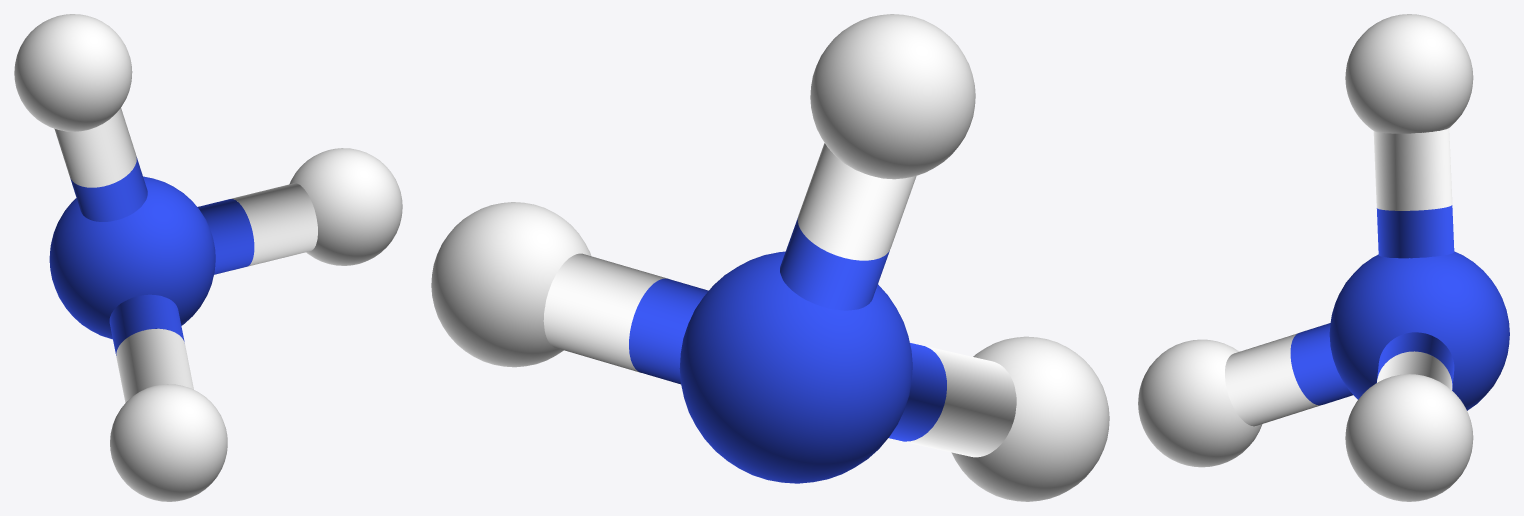
File: ammonia.obj
3 renders of one model, left to right at view 1: azimuth 30°, elevation 25°; view 2: azimuth 150°, elevation 25°; view 3: azimuth 270°, elevation 25°, orthographic. The views are drawn at different scales.
Parts seen in each view (by area): view 1: N1_Atom, H3_Atom, H4_Atom, H2_Atom, Cylinder6, Cylinder4, Cylinder2, Cylinder5, Cylinder3, Cylinder1; view 2: N1_Atom, H3_Atom, H2_Atom, H4_Atom, Cylinder6, Cylinder4, Cylinder2, Cylinder3, Cylinder5, Cylinder1; view 3: N1_Atom, H2_Atom, H3_Atom, H4_Atom, Cylinder4, Cylinder2, Cylinder3, Cylinder1, Cylinder5, Cylinder6.
Boxes of the visible parts, left/top/right/bottom form: N1_Atom: left=49, top=176, right=215, bottom=339; H3_Atom: left=14, top=14, right=132, bottom=131; H4_Atom: left=110, top=384, right=227, bottom=501; H2_Atom: left=289, top=148, right=402, bottom=265; Cylinder6: left=231, top=183, right=317, bottom=266; Cylinder4: left=54, top=108, right=136, bottom=187; Cylinder2: left=116, top=328, right=193, bottom=402; Cylinder5: left=197, top=199, right=254, bottom=274; Cylinder3: left=70, top=157, right=147, bottom=221; Cylinder1: left=109, top=294, right=184, bottom=355; N1_Atom: left=679, top=251, right=912, bottom=483; H3_Atom: left=810, top=14, right=975, bottom=179; H2_Atom: left=431, top=202, right=591, bottom=367; H4_Atom: left=951, top=336, right=1109, bottom=501; Cylinder6: left=543, top=253, right=667, bottom=372; Cylinder4: left=797, top=143, right=916, bottom=260; Cylinder2: left=901, top=345, right=1016, bottom=457; Cylinder3: left=780, top=218, right=889, bottom=310; Cylinder5: left=629, top=278, right=708, bottom=384; Cylinder1: left=889, top=343, right=946, bottom=441; N1_Atom: left=1329, top=251, right=1509, bottom=410; H2_Atom: left=1345, top=374, right=1473, bottom=501; H3_Atom: left=1345, top=14, right=1473, bottom=133; H4_Atom: left=1138, top=339, right=1262, bottom=467; Cylinder4: left=1373, top=128, right=1452, bottom=210; Cylinder2: left=1225, top=333, right=1320, bottom=426; Cylinder3: left=1376, top=205, right=1454, bottom=258; Cylinder1: left=1290, top=323, right=1353, bottom=405; Cylinder5: left=1376, top=332, right=1454, bottom=390; Cylinder6: left=1377, top=351, right=1452, bottom=390.
Size of the model in its own units: 1.84 by 1.93 by 1.47.
